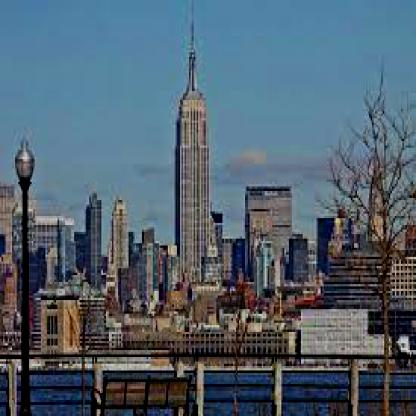Empire-State-building: (173, 0, 214, 278)
